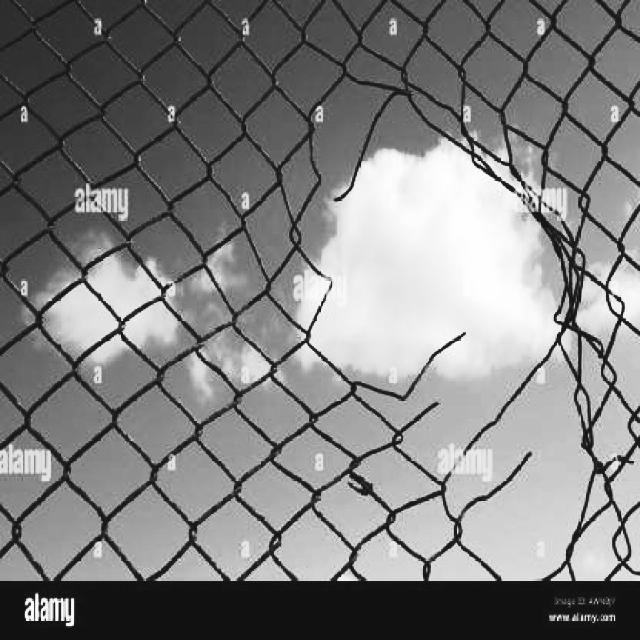anomaly-fence: (294, 0, 635, 573)
